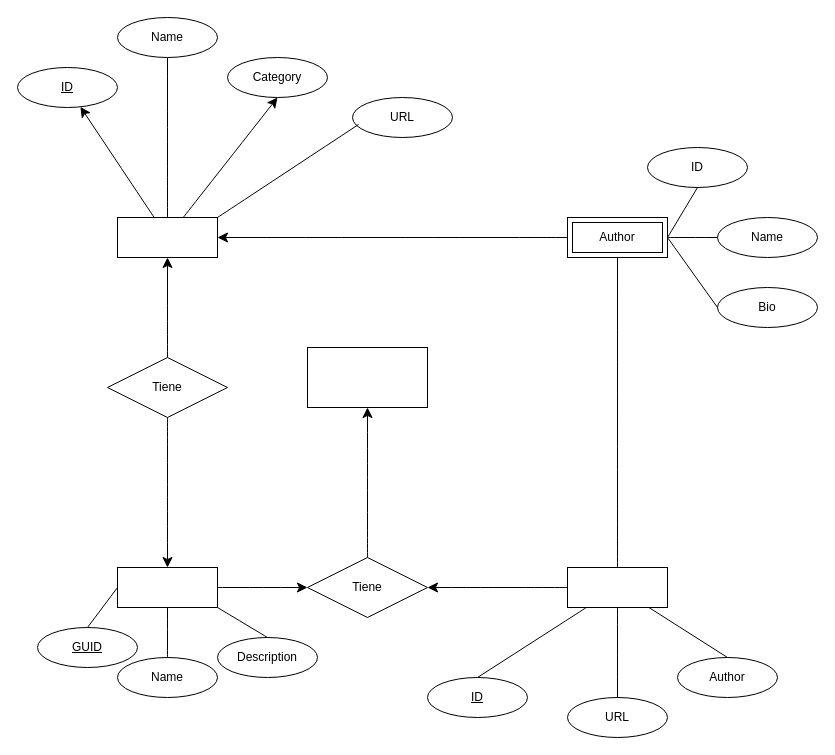
Some shapes in this 835 by 755 pixel diagram are drawn without their labels. The shapes that lost their labels are listed below. From the top down, each one's centre as x and y in pixels, then its label:
(167,237): Curso
(367,377): Artículos
(167,587): Lección
(617,587): Videos
